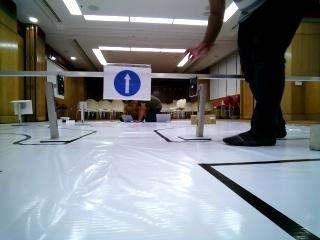straight: (102, 65, 152, 98)
